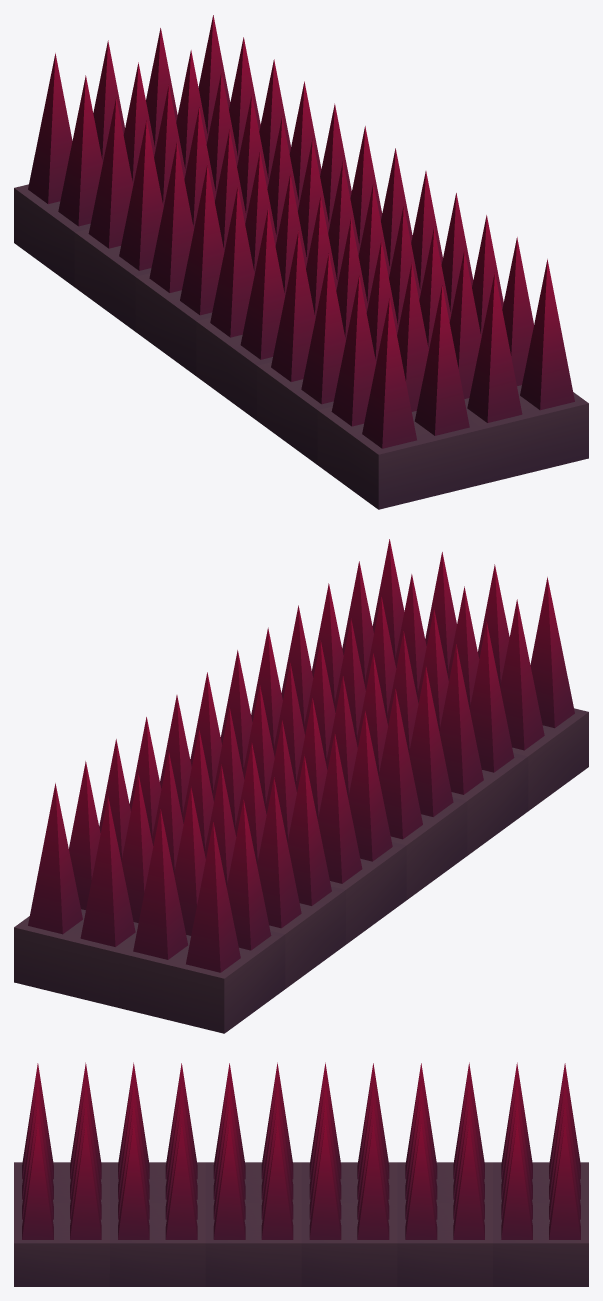
Rendered from spikes.fbx.
The picture shows the model from 3 angles, top to bottom: view 1: azimuth 30°, elevation 25°; view 2: azimuth 150°, elevation 25°; view 3: azimuth 270°, elevation 25°; orthographic projection. The views are drawn at different scales.
Visible parts, largest first — view 1: Cube.004; view 2: Cube.004; view 3: Cube.004.
Part boxes in pixels (x1,y1,x2,y2): Cube.004: (14, 15, 588, 509); Cube.004: (14, 539, 588, 1033); Cube.004: (14, 1062, 588, 1286).
Size of the model in its own units: 400 by 354 by 1200.
